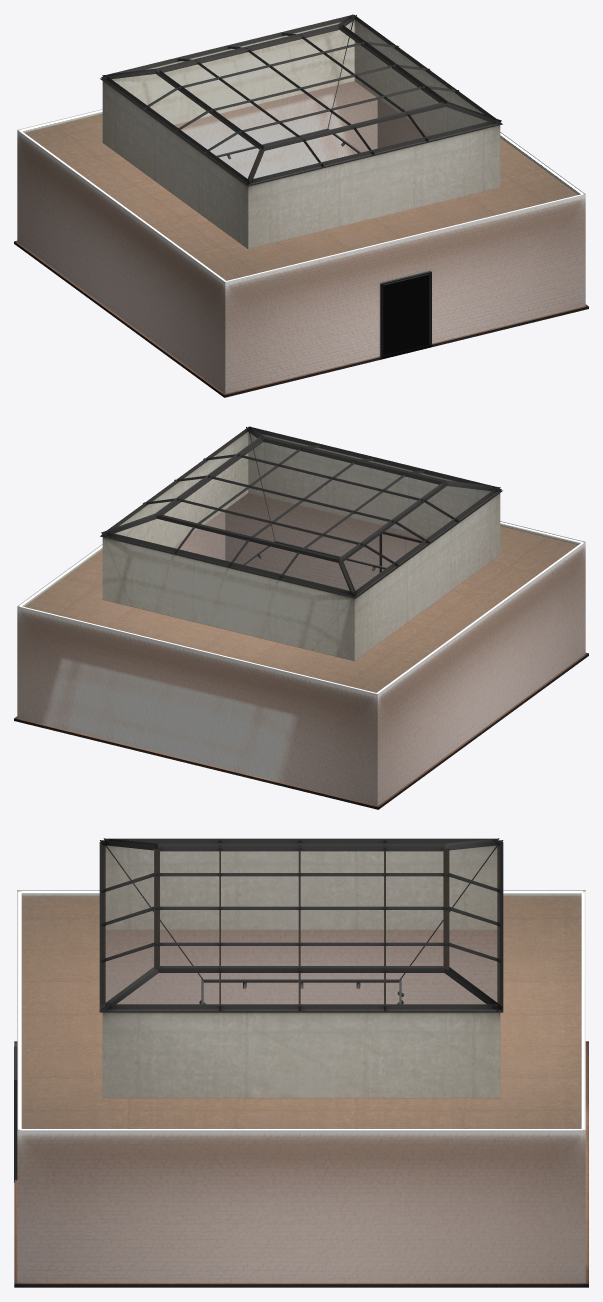
File: VR_Gallery.fbx
3 renders of one model, top to bottom at view 1: azimuth 30°, elevation 25°; view 2: azimuth 150°, elevation 25°; view 3: azimuth 270°, elevation 25°, orthographic. The views are drawn at different scales.
Visible parts, largest first — view 1: VR_Gallery; view 2: VR_Gallery; view 3: VR_Gallery.
Part boxes in pixels (x1=…): VR_Gallery: x1=14, y1=14, x2=588, y2=397; VR_Gallery: x1=14, y1=426, x2=588, y2=809; VR_Gallery: x1=14, y1=838, x2=588, y2=1287.
Bounding box in the file's own units: 1012 × 505 × 1012.
